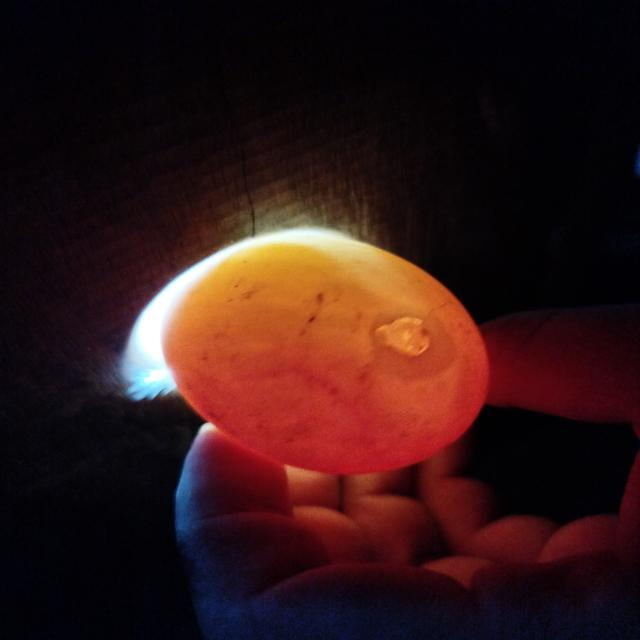Rachadura: (375, 317, 430, 356)
